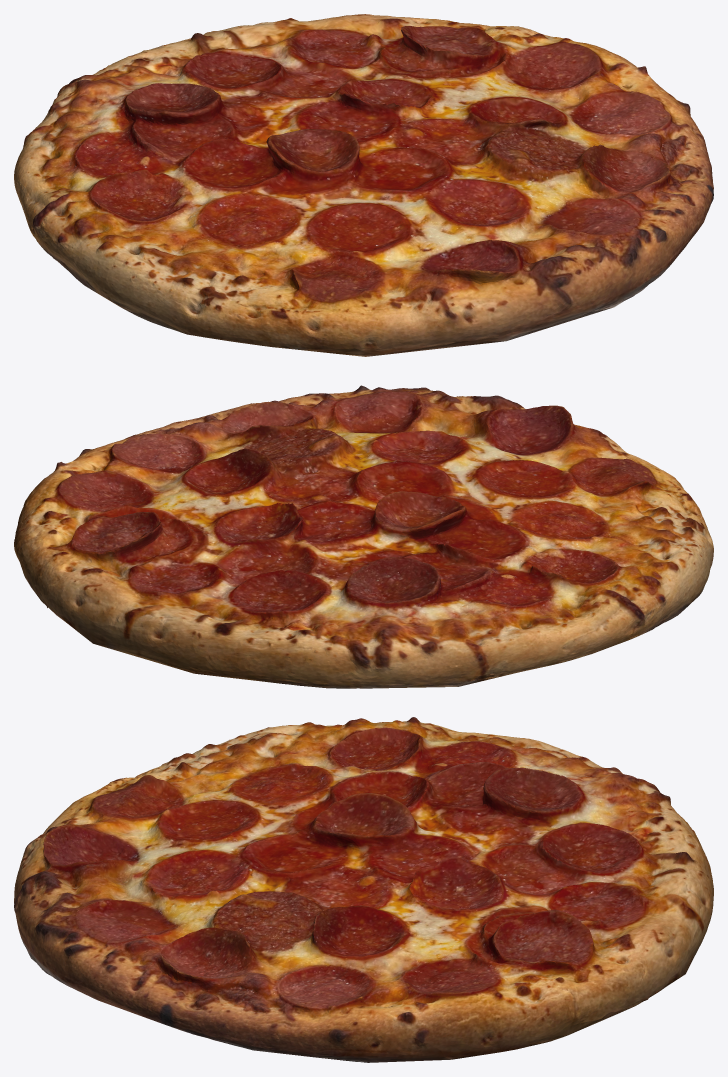
The model's file is pepperoni-pizza.glb.
3 views of the same model, one above another, from view 1: azimuth 30°, elevation 25°; view 2: azimuth 150°, elevation 25°; view 3: azimuth 270°, elevation 25° (orthographic). The views are drawn at different scales.
Size of the model in its own units: 0.2936 by 0.0369 by 0.284.
Materials: 1 (1 with a texture image).
